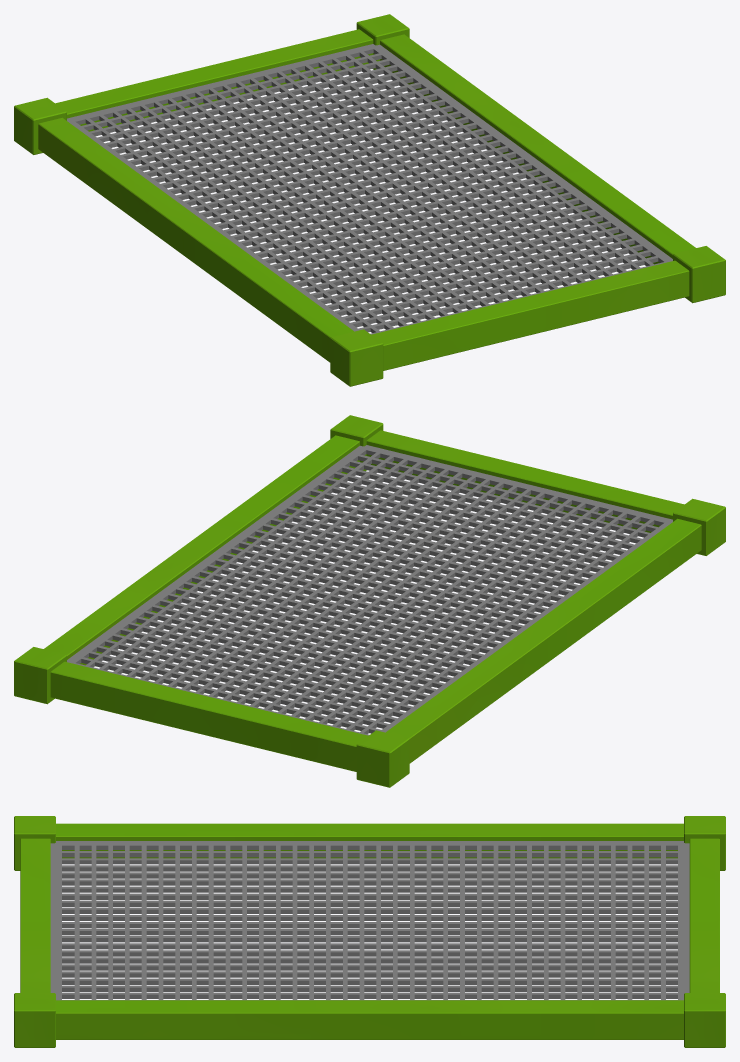
Rendered from DoubleBridge1SegmentGreen.fbx.
3 views of the same model, one above another, from view 1: azimuth 30°, elevation 25°; view 2: azimuth 150°, elevation 25°; view 3: azimuth 270°, elevation 25° (orthographic). The views are drawn at different scales.
Parts seen in each view (by area): view 1: Grate.001, Cube.001; view 2: Grate.001, Cube.001; view 3: Grate.001, Cube.001.
Part boxes in pixels (left/top/right/bottom): Grate.001: left=67, top=44, right=672, bottom=334; Cube.001: left=14, top=14, right=725, bottom=386; Grate.001: left=67, top=445, right=672, bottom=735; Cube.001: left=14, top=415, right=725, bottom=787; Grate.001: left=50, top=841, right=689, bottom=1000; Cube.001: left=14, top=816, right=725, bottom=1047.
Bounding box in the file's own units: 11 × 1 × 17.
